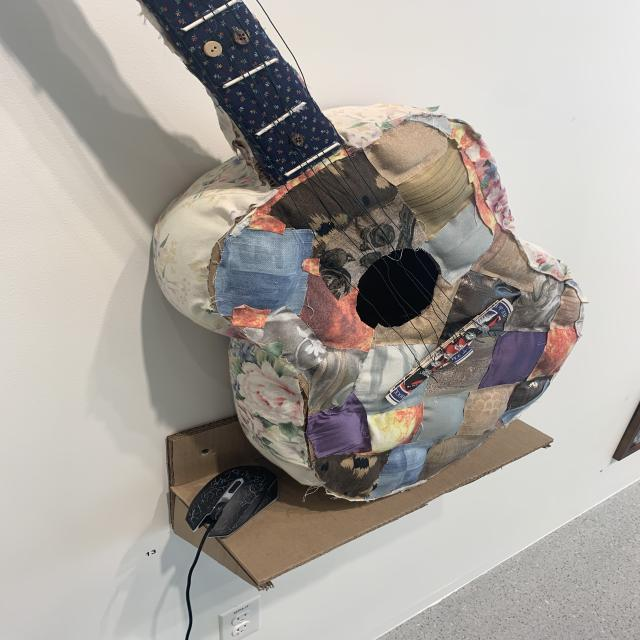Mouse: (179, 458, 295, 545)
